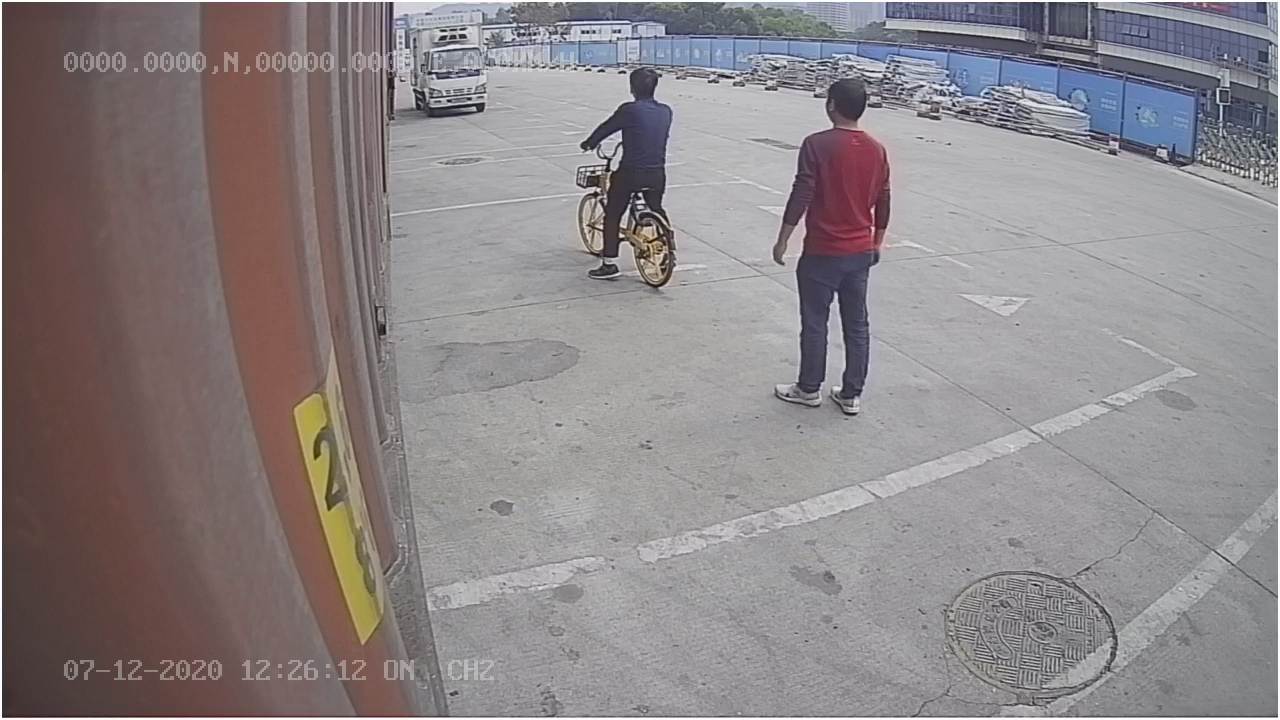person: (764, 78, 896, 423)
